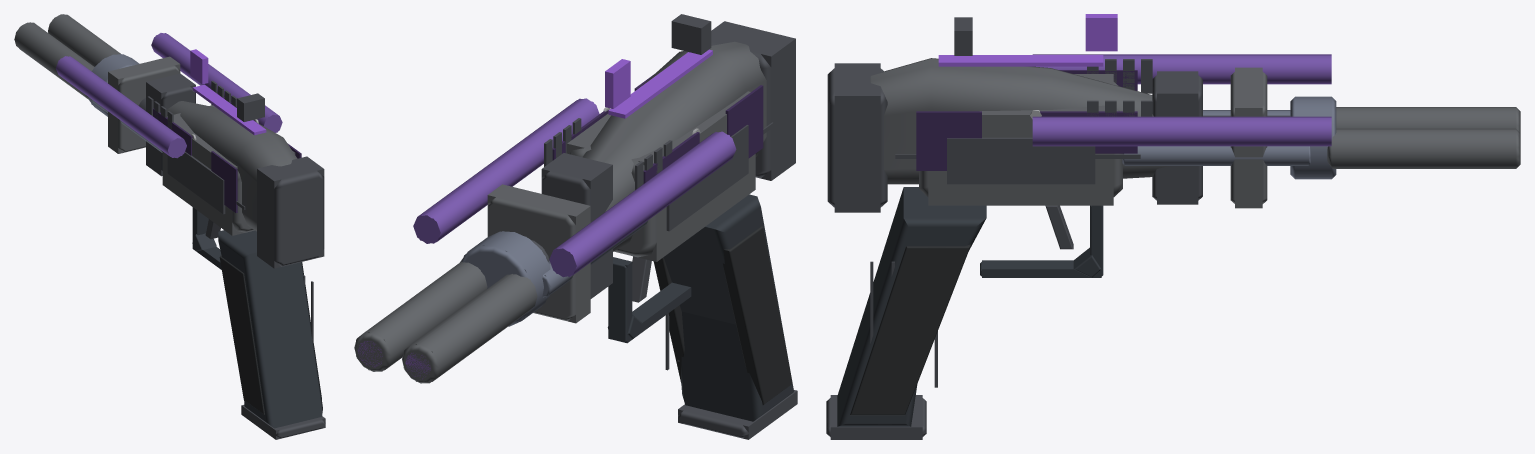
File: q_ppistol.glb
3 renders of one model, left to right at view 1: azimuth 30°, elevation 25°; view 2: azimuth 150°, elevation 25°; view 3: azimuth 270°, elevation 25°, orthographic. The views are drawn at different scales.
Parts seen in each view (by area): view 1: L0, L1; view 2: L0, L1; view 3: L0, L1.
Part boxes in pixels (bbox=[...]): L0: bbox=[14, 14, 325, 438]; L1: bbox=[19, 14, 325, 439]; L0: bbox=[354, 14, 797, 438]; L1: bbox=[356, 21, 797, 439]; L0: bbox=[826, 14, 1520, 436]; L1: bbox=[830, 54, 1515, 439].
Bounding box in the file's own units: 0.077 × 0.1955 × 0.3016.
